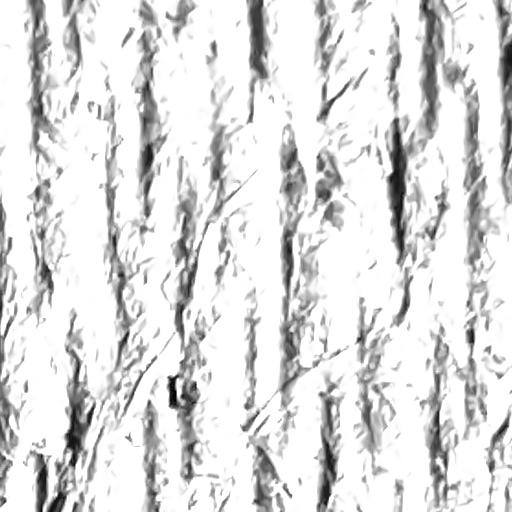egg: (167, 375, 177, 408)
